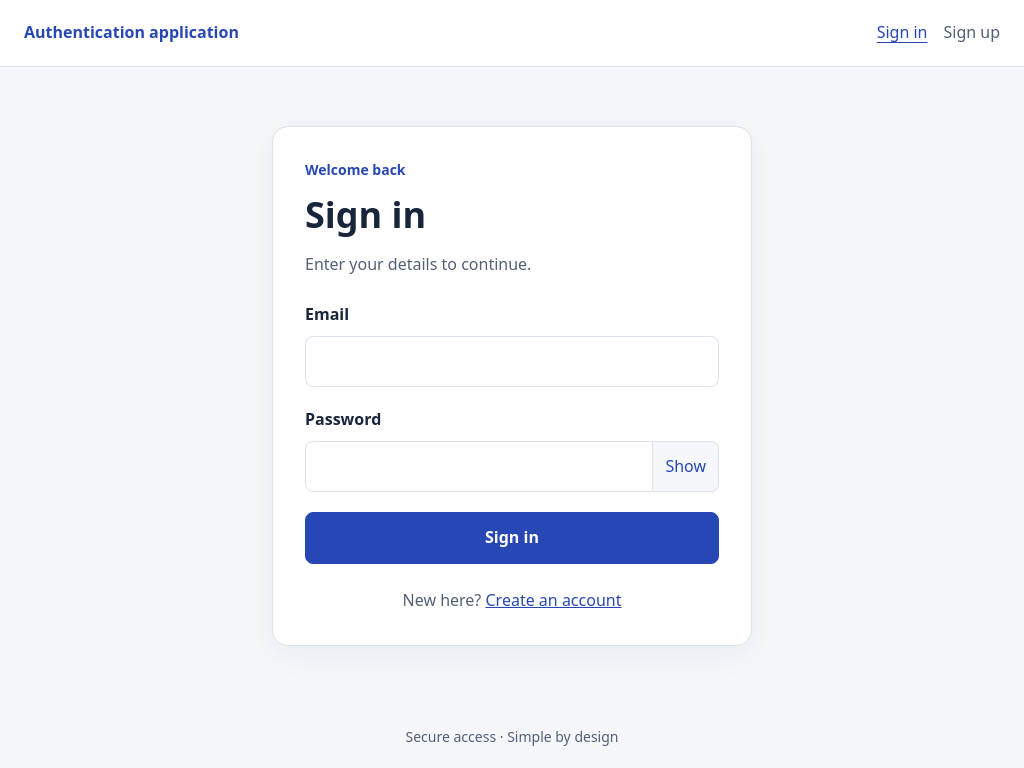
Test: refreshes a rejected CSRF token and requires an explicit submission retry
Expected: the heading "Sign in" is shown, [305,190,426,239]
Type "Person@EXAMPLE.COM" into the field labelled "Email" at (512, 361), box [305,336,719,387]
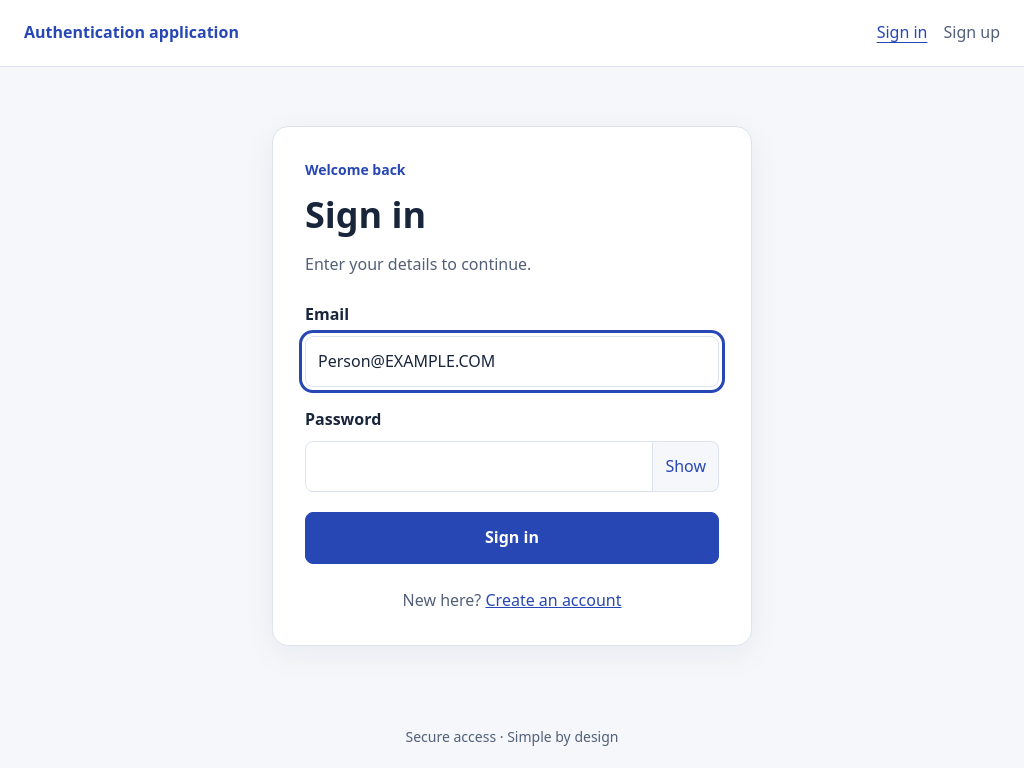
Type " Password42! " into the password field labelled "Password" at (479, 466), box [305,441,653,492]
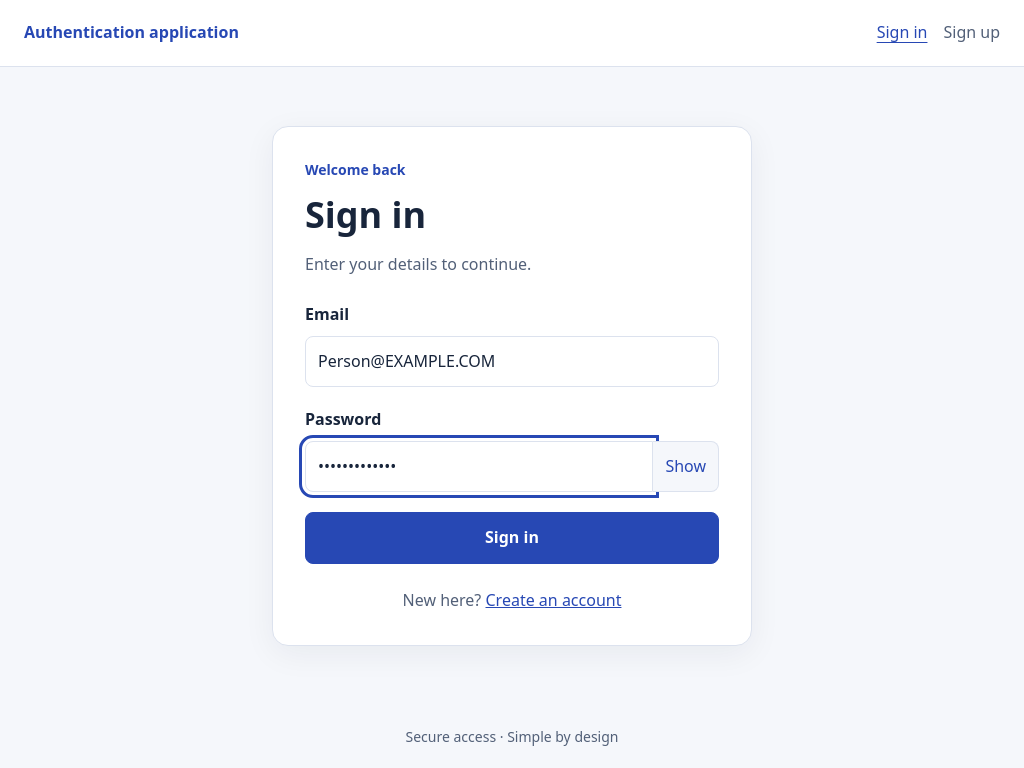
Click the button "Sign in" at (512, 538), box [305,512,719,564]
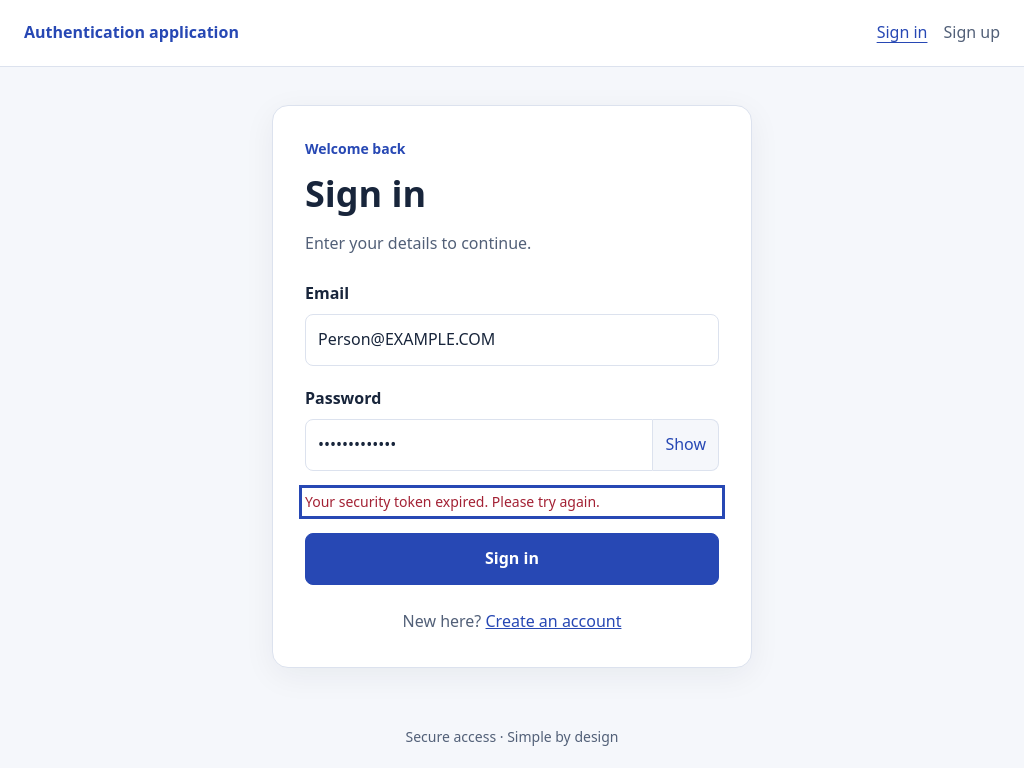
Expected: the message shows "Your security token expired", [305,492,600,511]
Click the button "Sign in" at (512, 559), box [305,534,719,585]
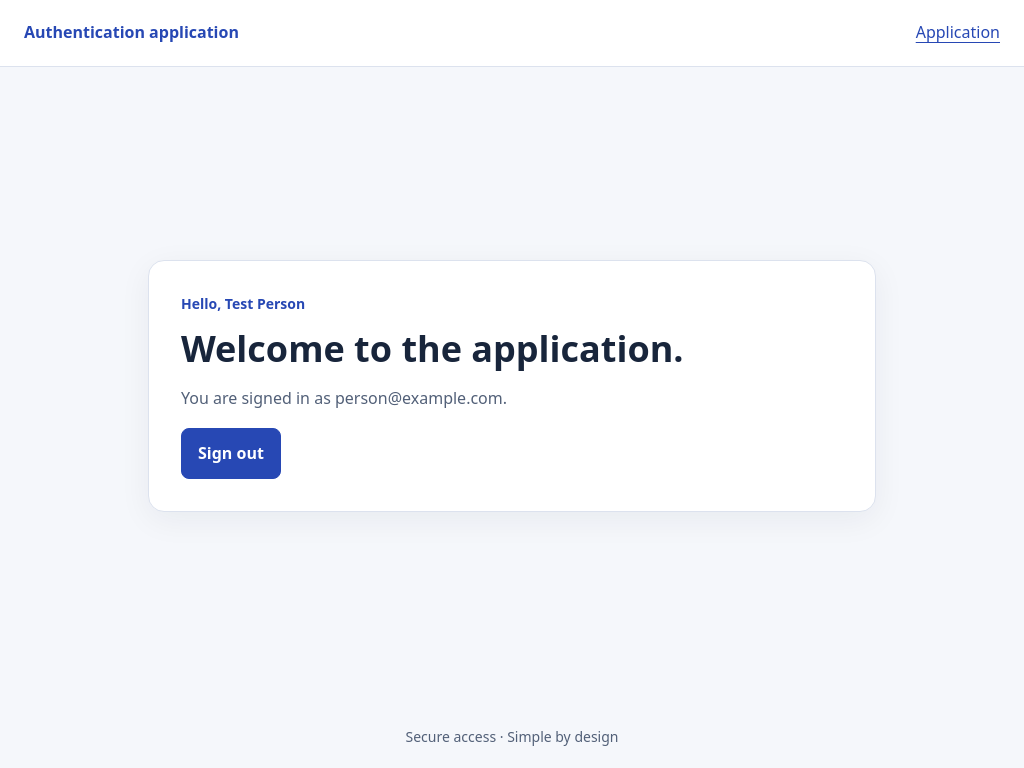
Expected: the heading "Welcome to the application." is shown, [181,324,684,373]
